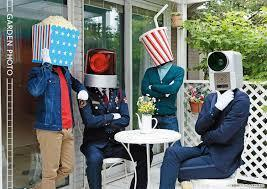no more kid: (205, 48, 247, 94)
